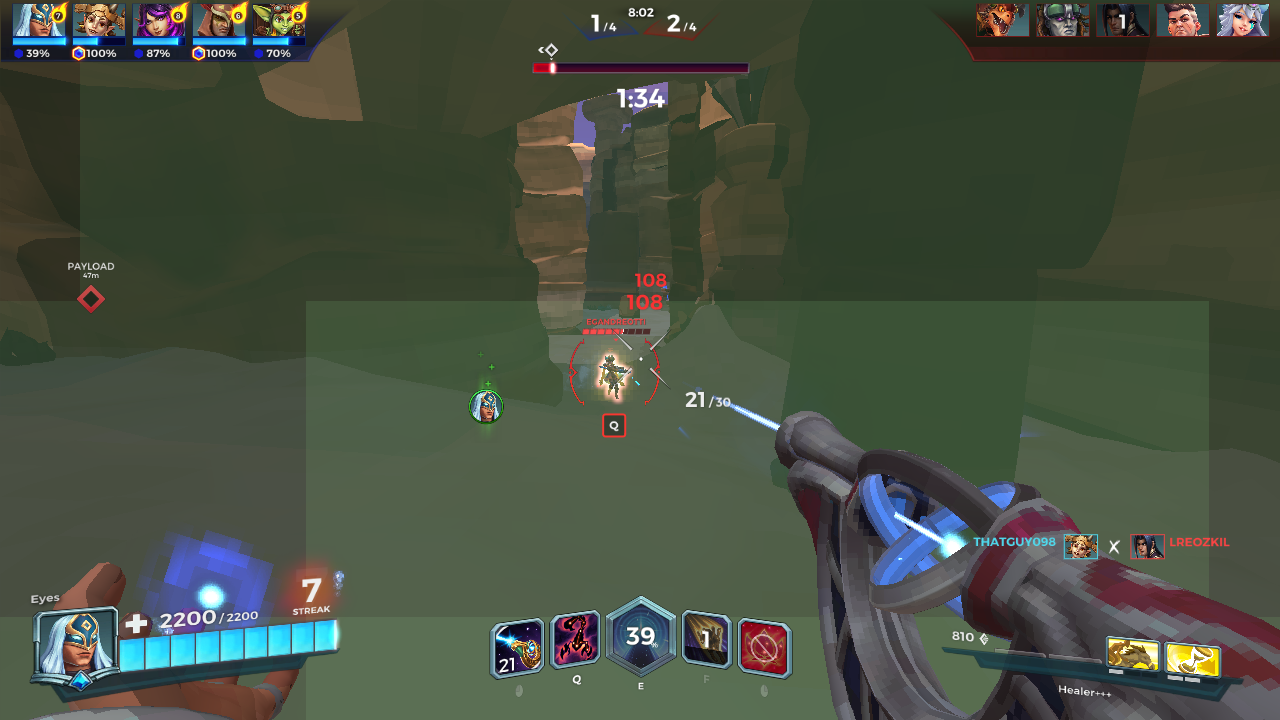model: (594, 351, 633, 406)
